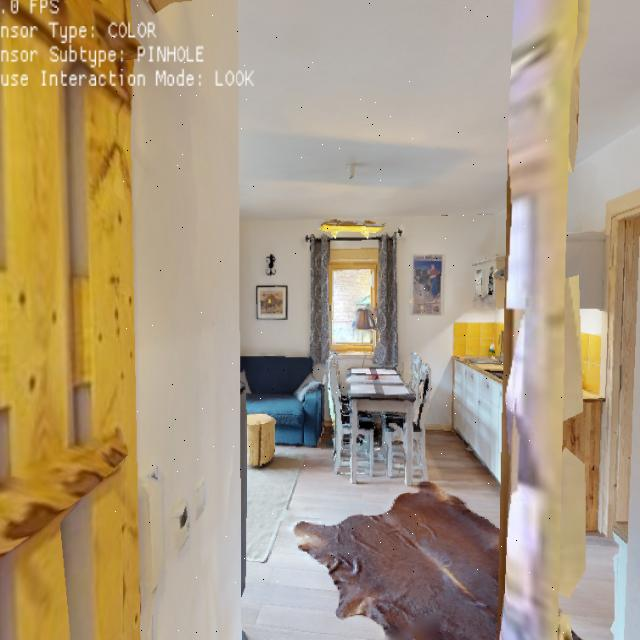chair: (382, 354, 448, 498), (321, 352, 376, 494)
door-frame: (110, 0, 568, 640)
sofa: (224, 352, 333, 467)
table: (338, 358, 427, 487)
